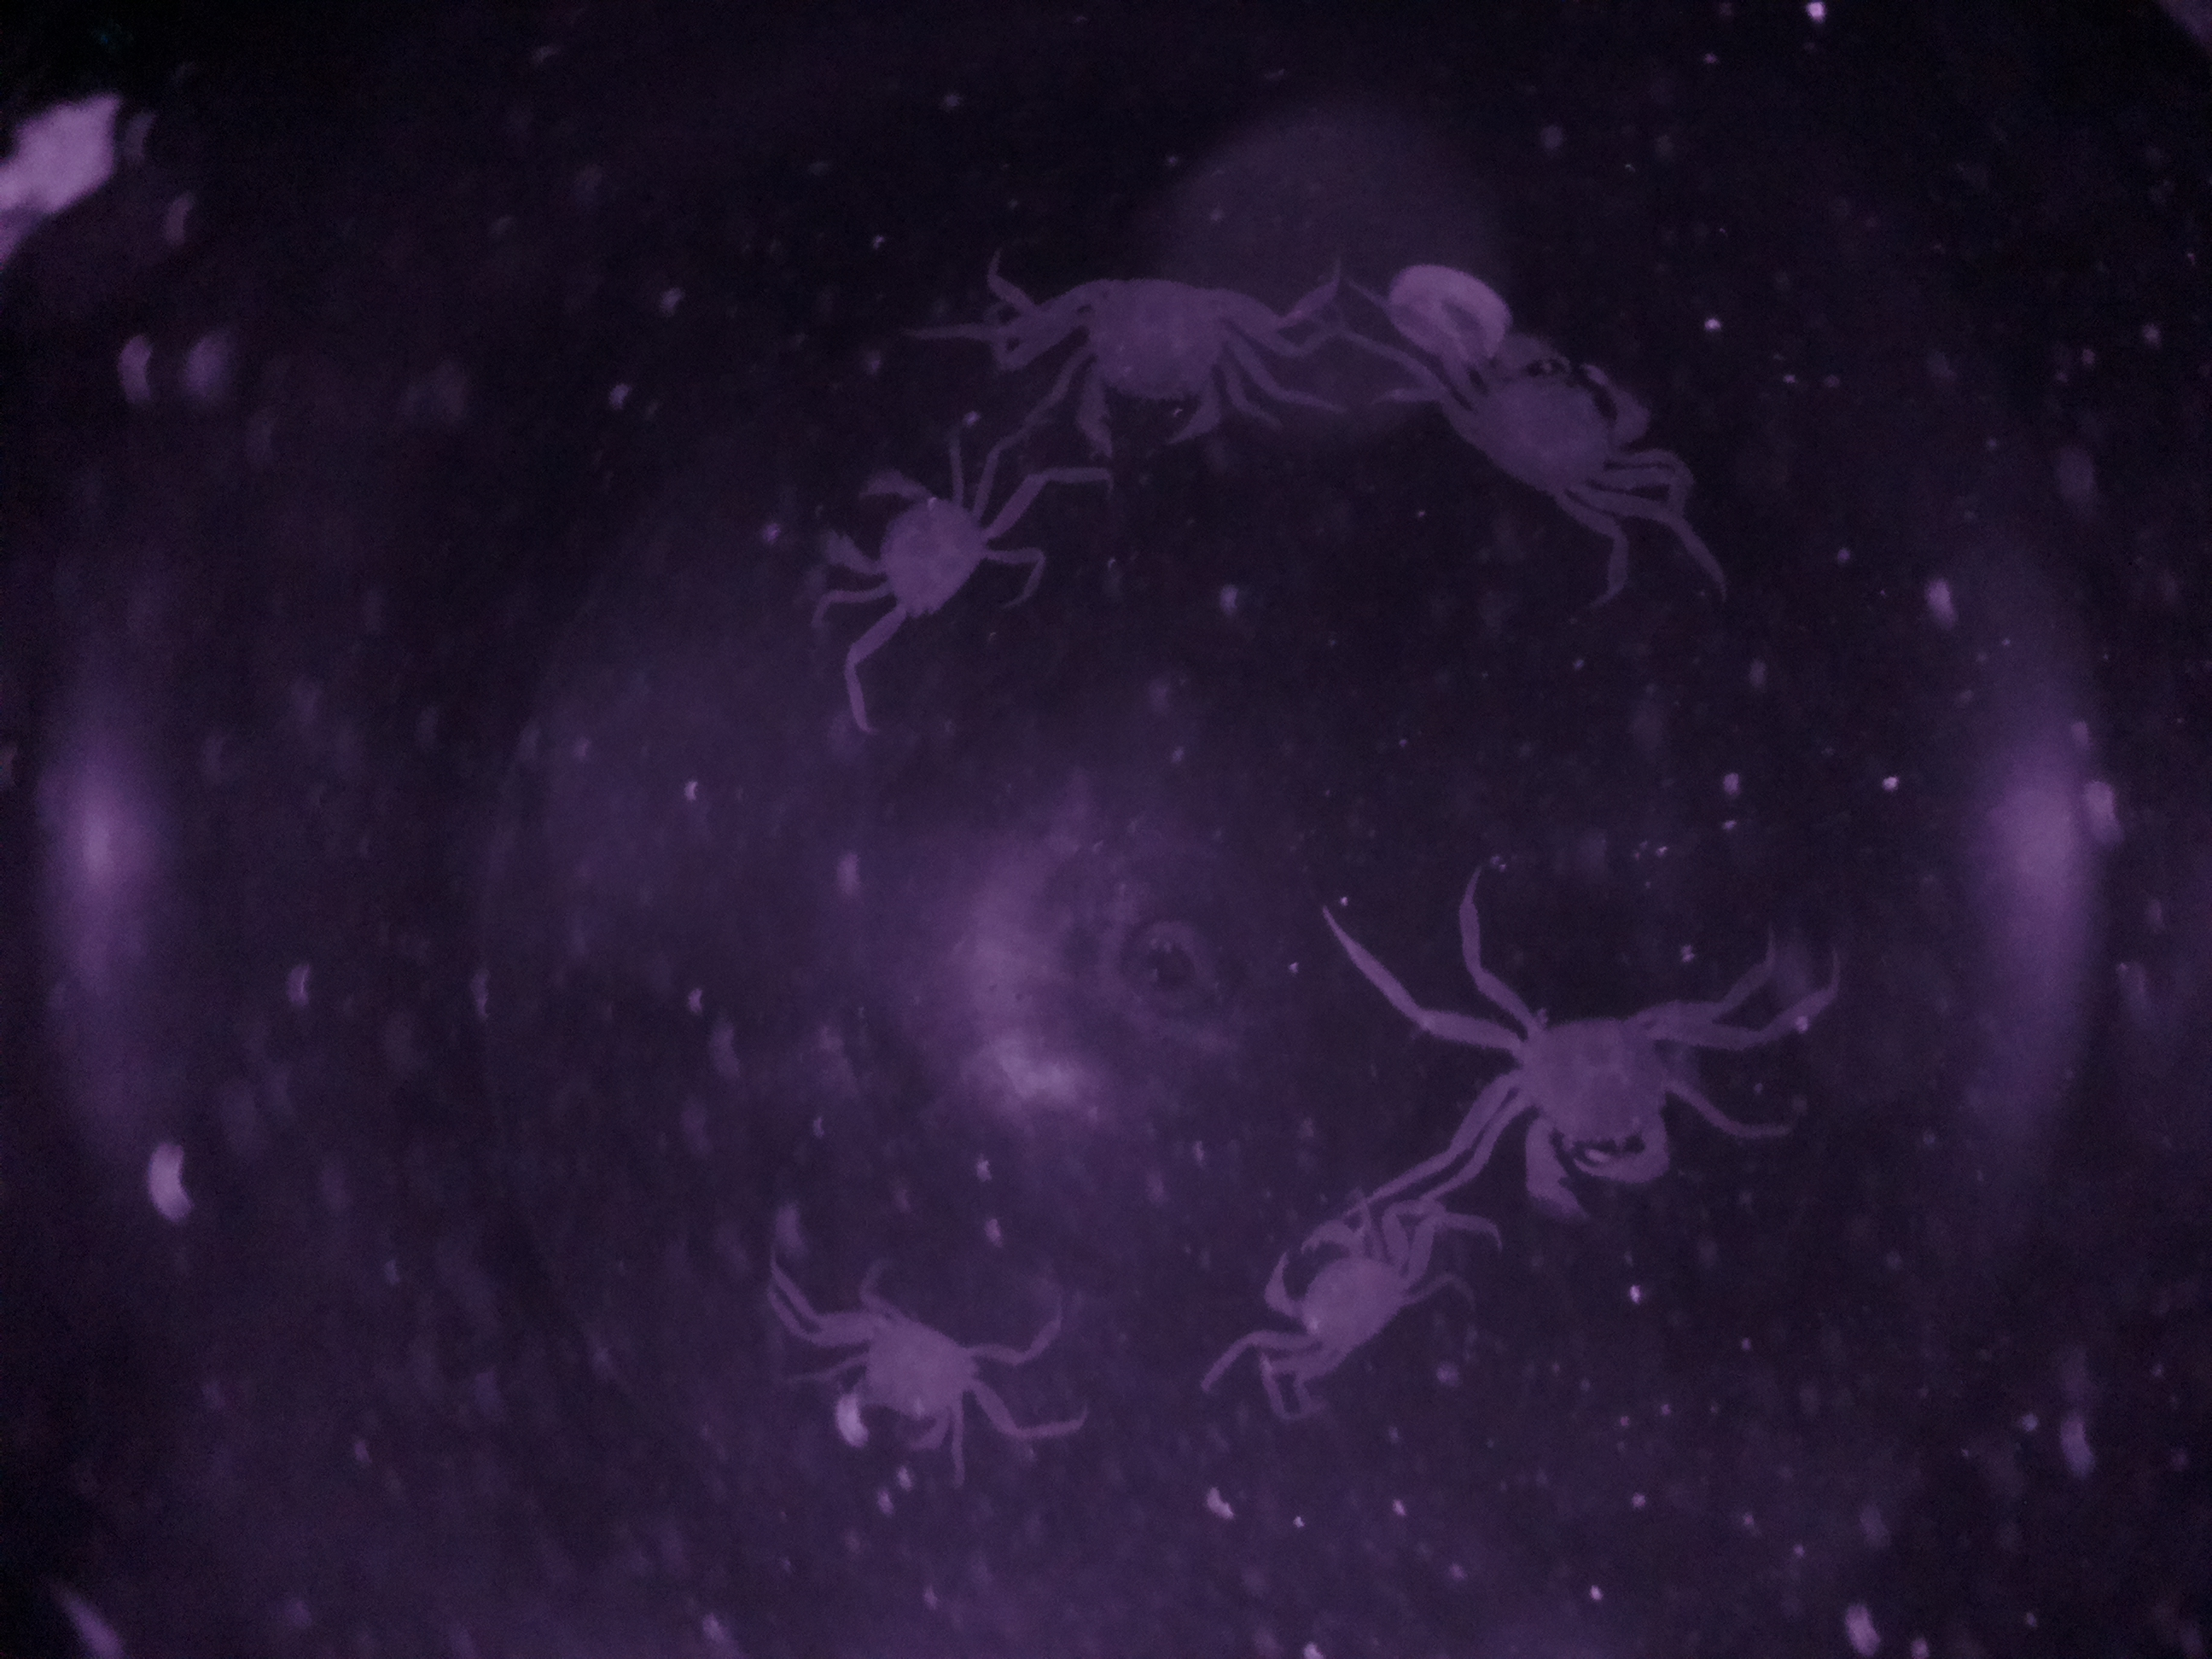Crab: (1460, 958, 1759, 1232), (998, 247, 1322, 474), (1381, 329, 1681, 537), (808, 460, 1052, 664), (1258, 1199, 1472, 1420), (772, 1270, 1000, 1464)
